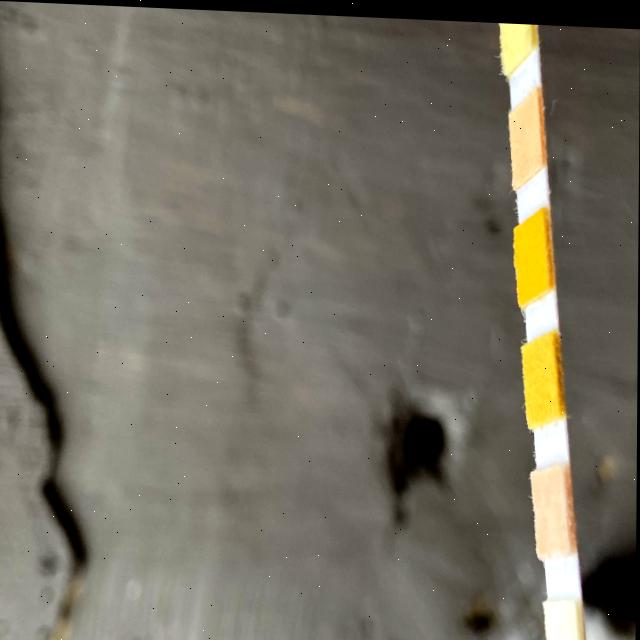Bilirubin: (555, 598, 577, 640)
Blood: (519, 214, 545, 295)
Ketone: (539, 462, 563, 551)
Protein: (498, 18, 532, 37)
SpGravity: (529, 335, 553, 419)
pH: (514, 103, 541, 158)
